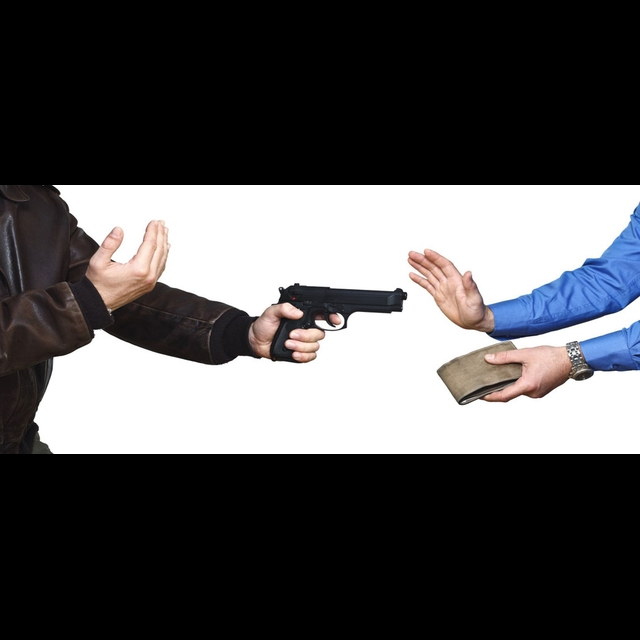SILAH: (243, 265, 411, 378)
